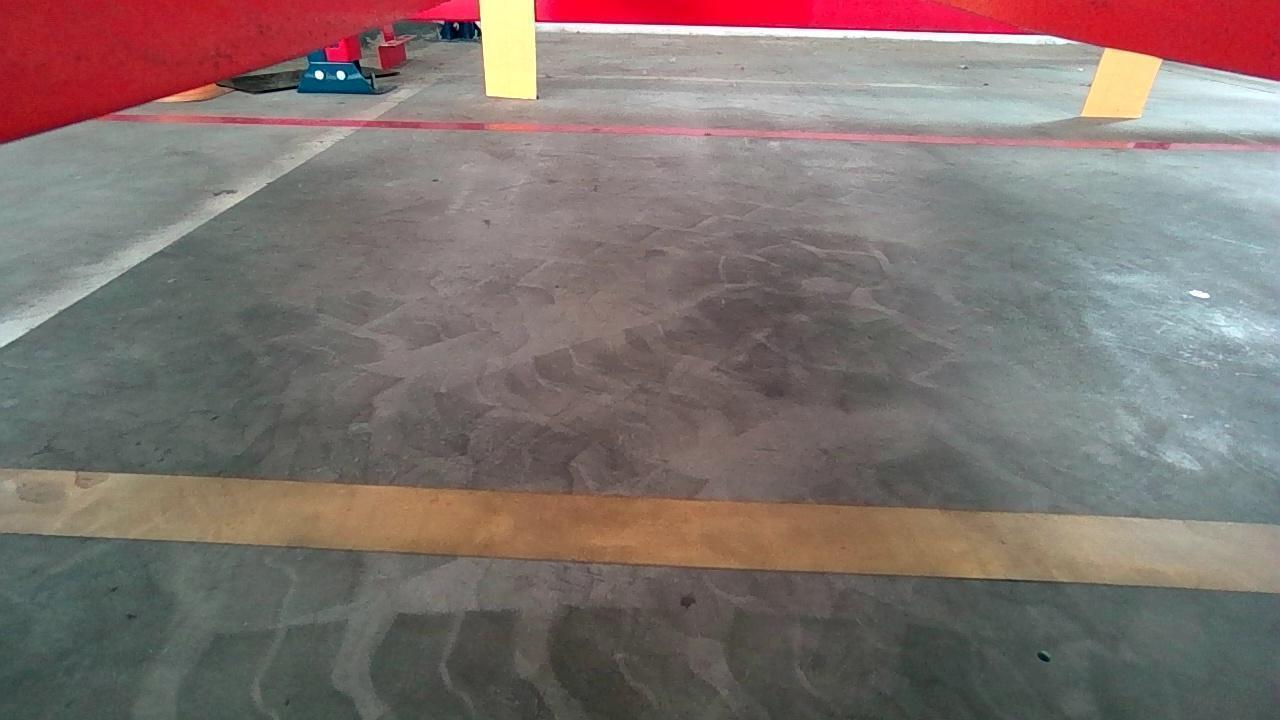red_line: (89, 111, 1280, 150)
yellow_line: (1, 467, 1280, 593)
